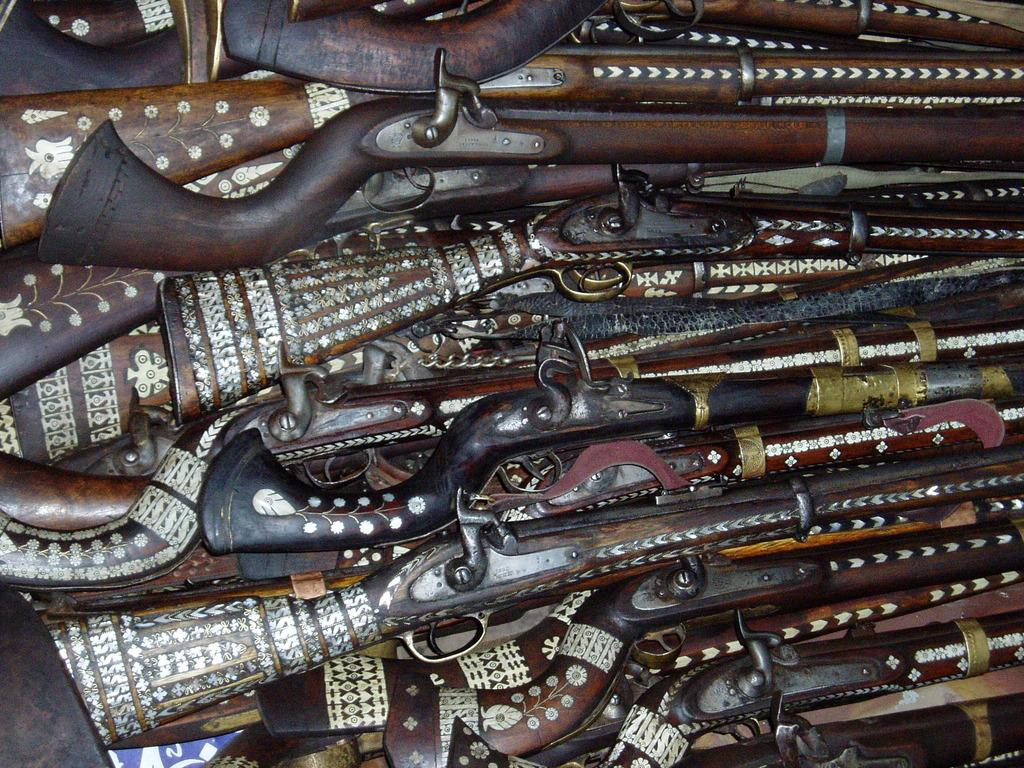Rifle: (179, 22, 998, 282)
